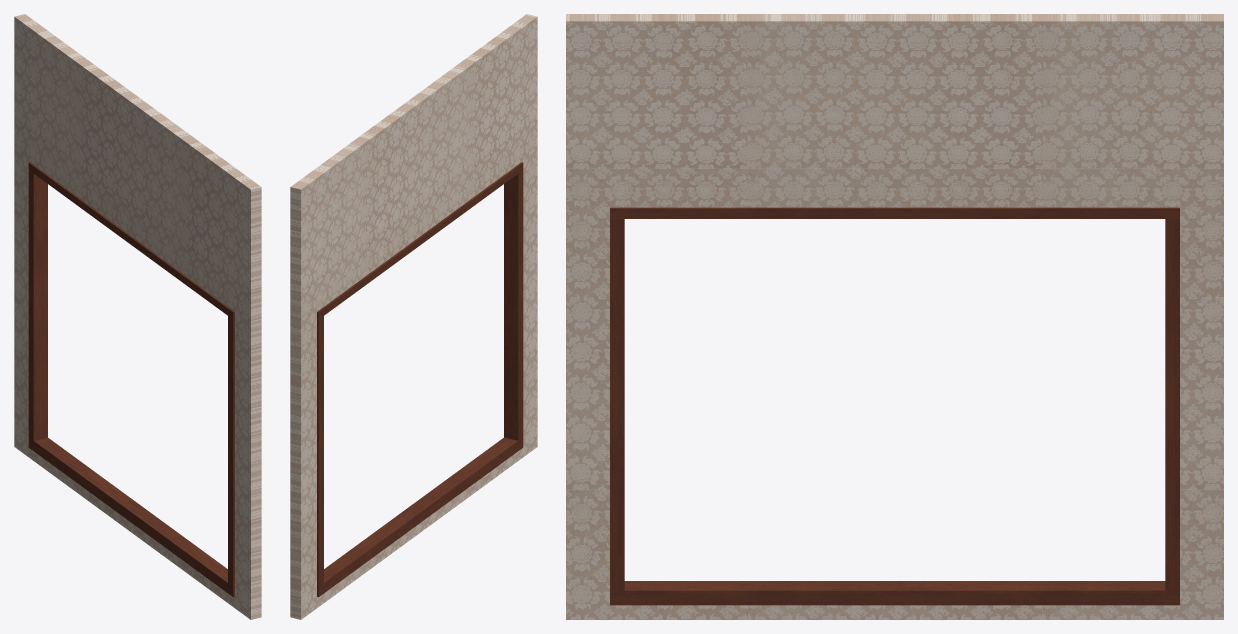
File: SM_WallPaper01C.fbx
3 renders of one model, left to right at view 1: azimuth 30°, elevation 25°; view 2: azimuth 150°, elevation 25°; view 3: azimuth 270°, elevation 25°, orthographic. The views are drawn at different scales.
Parts seen in each view (by area): view 1: SM_WallPaper01C; view 2: SM_WallPaper01C; view 3: SM_WallPaper01C.
Part boxes in pixels (left/top/right/bottom): SM_WallPaper01C: left=14, top=14, right=261, bottom=619; SM_WallPaper01C: left=290, top=14, right=537, bottom=619; SM_WallPaper01C: left=566, top=14, right=1223, bottom=619.
Size of the model in its own units: 8.99 by 260 by 261.
Materials: 2 (2 with a texture image).
